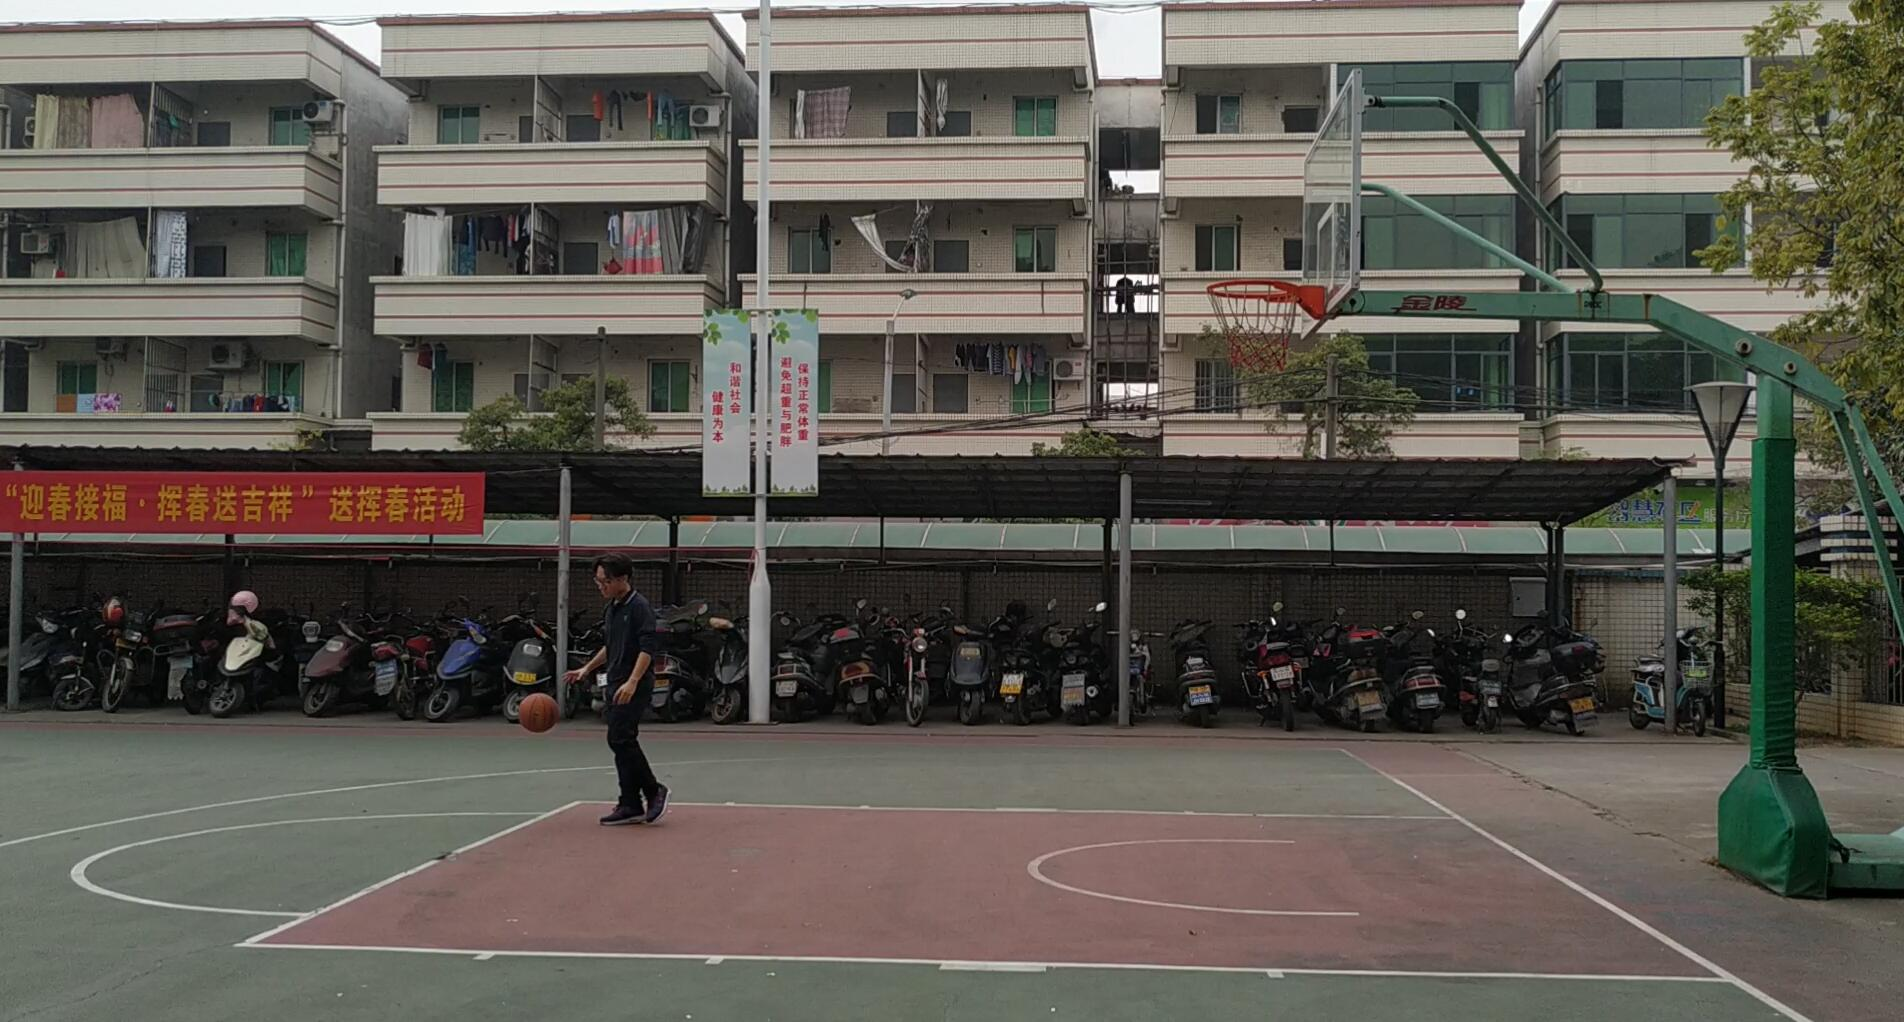basketball: (514, 690, 565, 734)
